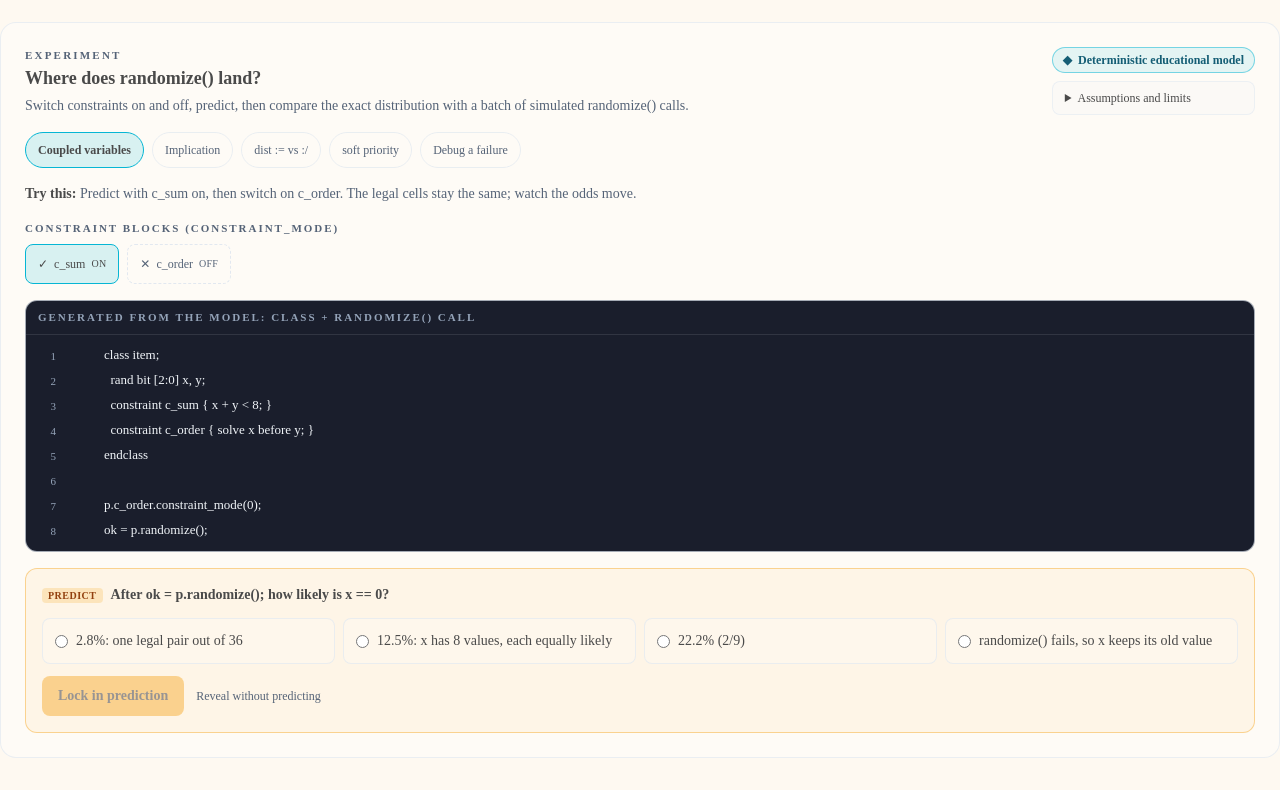
Test: ConstraintSolverHeatmapVisualizer › hides the solution space until a prediction is locked in, then diagnoses the independent-variable misconception
The width and height of the screenshot is (1280, 790).
Expected: the text "constraint c_sum { x + y < 8; }" is shown, [104,396,272,412]
Click the radio button labelled "12.5%: x has 8 values, each equally likely" at (362, 641), box [356,634,369,648]
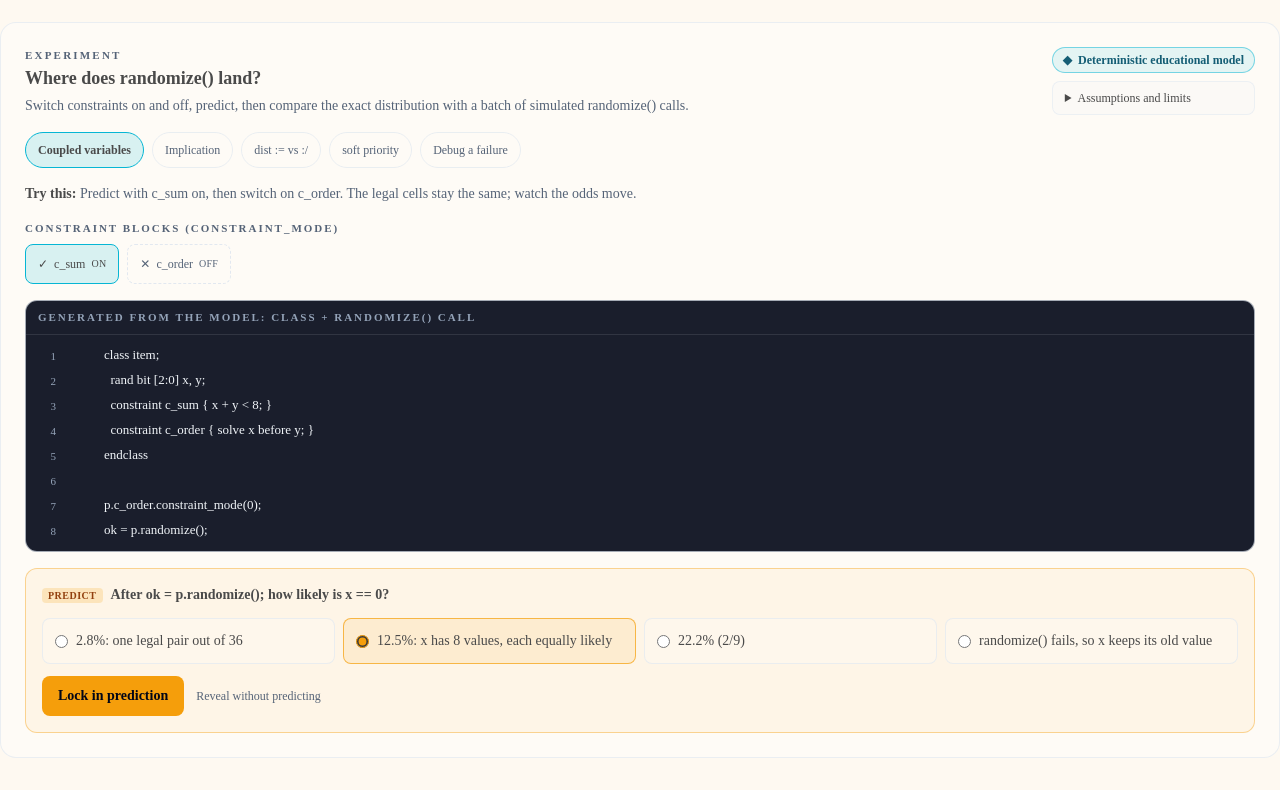
Click the button "Lock in prediction" at (113, 696), box [42,676,184,716]
(page scrolled)
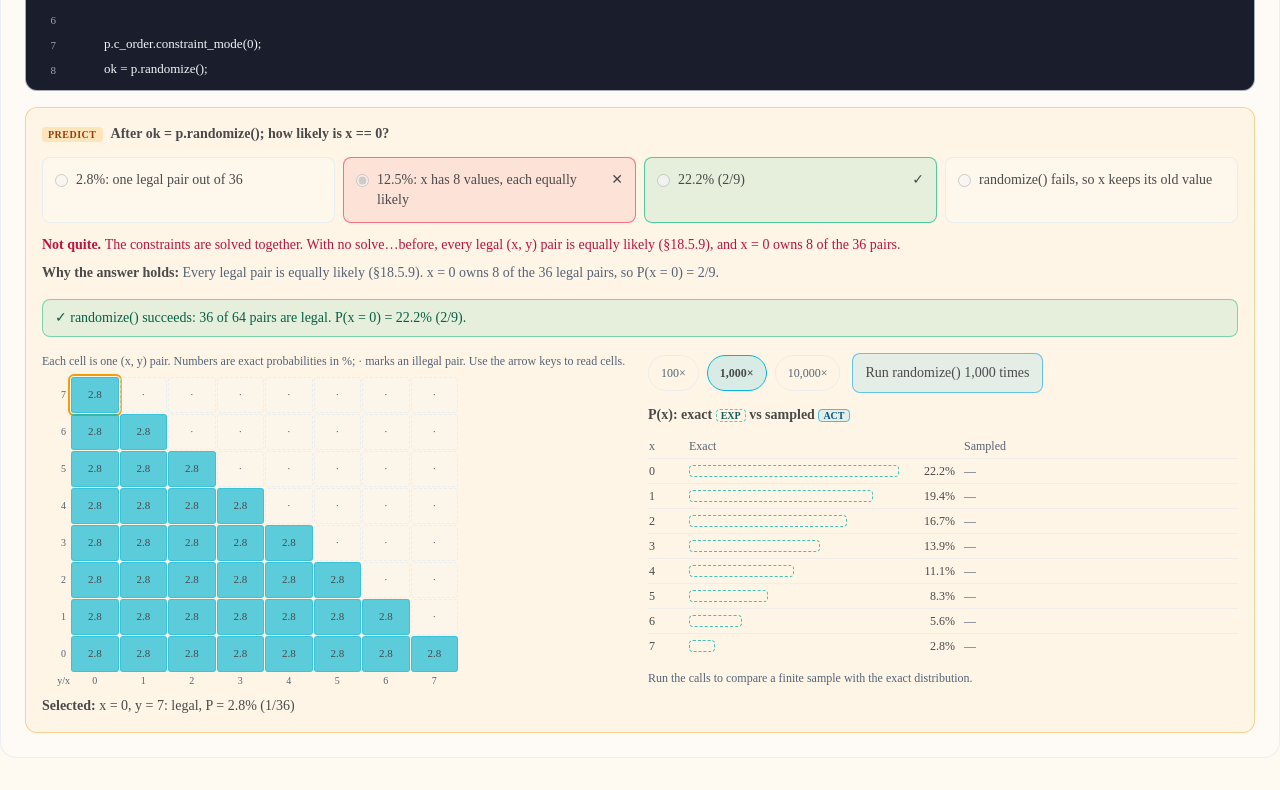
Expected: the text "Not quite." is shown, [42,236,105,252]
Expected: the text "x = 0 owns 8 of the 36 pairs" is shown, [105,236,900,252]
Expected: the text "36 of 64 pairs are legal. P(x = 0) = 22.2% (2/9)" is shown, [42,298,1238,336]
